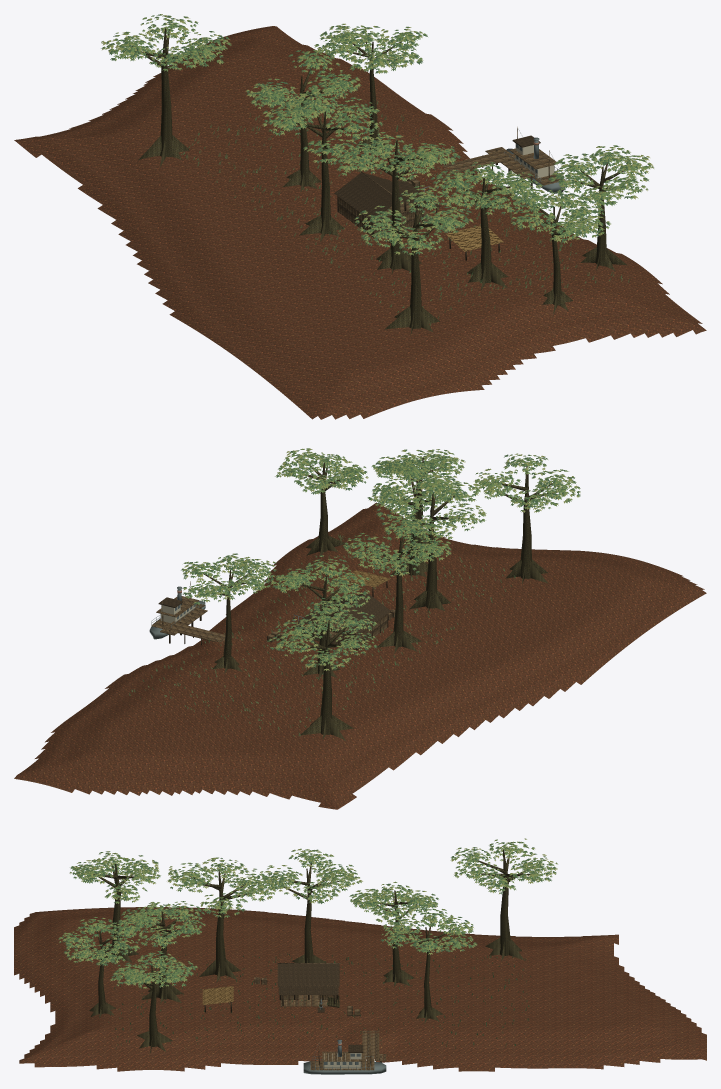
Rendered from congo.glb.
3 views of the same model, one above another, from view 1: azimuth 30°, elevation 25°; view 2: azimuth 150°, elevation 25°; view 3: azimuth 270°, elevation 25° (orthographic). The views are drawn at different scales.
Parts seen in each view (by area): view 1: Laterite, LeafDeep, LeafMid, LeafLight, Bark, Timber, DarkTimber, Grass, Canvas; view 2: Laterite, LeafDeep, LeafMid, LeafLight, Bark, Timber, Grass, DarkTimber; view 3: Laterite, LeafLight, LeafDeep, LeafMid, Bark, DarkTimber, Timber, Grass, Iron, Canvas.
Boxes of the visible parts, x1=… form: Laterite: x1=14, y1=26, x2=706, y2=419; LeafDeep: x1=101, y1=14, x2=653, y2=254; LeafMid: x1=102, y1=14, x2=652, y2=255; LeafLight: x1=101, y1=14, x2=653, y2=255; Bark: x1=131, y1=28, x2=627, y2=335; Timber: x1=338, y1=127, x2=565, y2=243; DarkTimber: x1=334, y1=135, x2=540, y2=260; Grass: x1=181, y1=97, x2=630, y2=325; Canvas: x1=446, y1=225, x2=503, y2=251; Laterite: x1=14, y1=502, x2=706, y2=809; LeafDeep: x1=181, y1=449, x2=580, y2=669; LeafMid: x1=182, y1=448, x2=579, y2=668; LeafLight: x1=181, y1=448, x2=580, y2=670; Bark: x1=200, y1=457, x2=556, y2=740; Timber: x1=151, y1=581, x2=395, y2=649; Grass: x1=129, y1=534, x2=515, y2=736; DarkTimber: x1=158, y1=580, x2=393, y2=649; Laterite: x1=14, y1=907, x2=706, y2=1071; LeafLight: x1=58, y1=838, x2=557, y2=988; LeafDeep: x1=58, y1=839, x2=556, y2=987; LeafMid: x1=59, y1=839, x2=557, y2=988; Bark: x1=82, y1=849, x2=531, y2=1056; DarkTimber: x1=204, y1=964, x2=381, y2=1062; Timber: x1=254, y1=963, x2=386, y2=1070; Grass: x1=108, y1=953, x2=530, y2=1048; Iron: x1=303, y1=998, x2=386, y2=1074; Canvas: x1=202, y1=986, x2=233, y2=1004.
Bounding box in the file's own units: 77.25 × 25.7 × 134.
12 materials, 5 textured.
